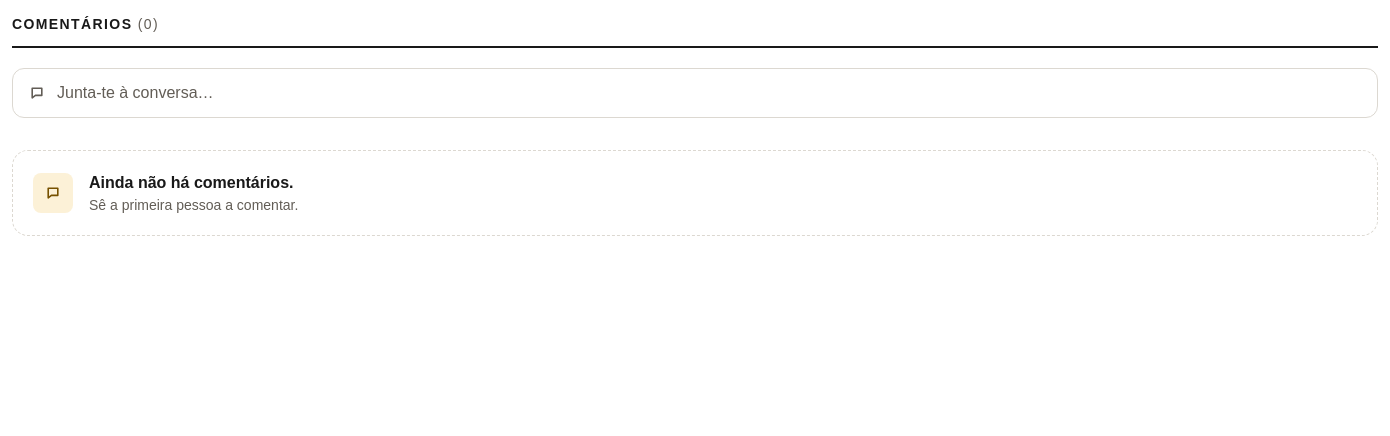
Test: comments › without an account, asks to log in in place of Publicar, and keeps what was written
The width and height of the screenshot is (1390, 436).
Click the button "Junta-te à conversa…": (135, 92) [12, 68, 1378, 118]
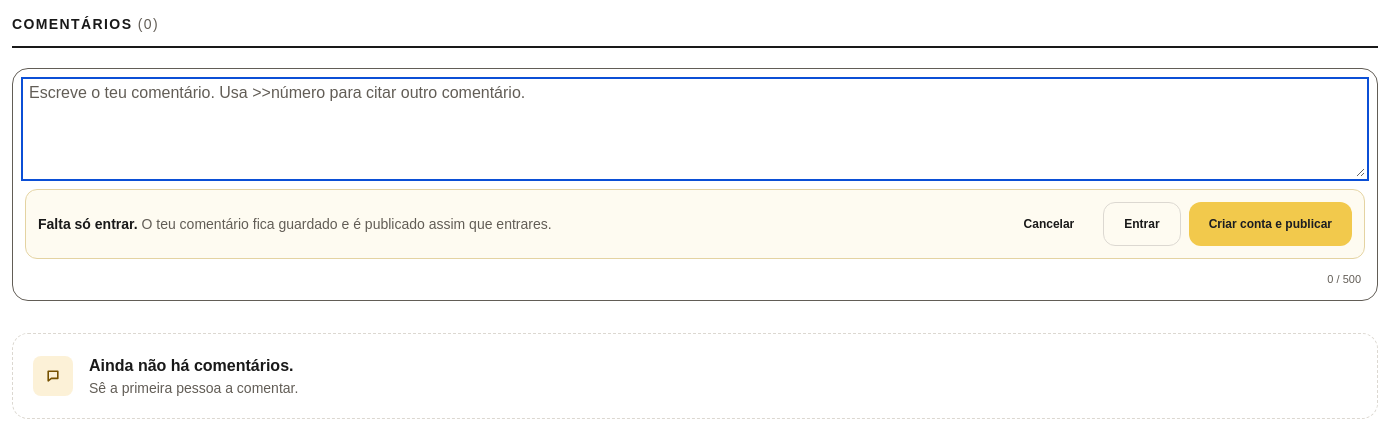
In the text box labelled "comentário": (695, 129) [25, 81, 1365, 177], type "Rascunho"
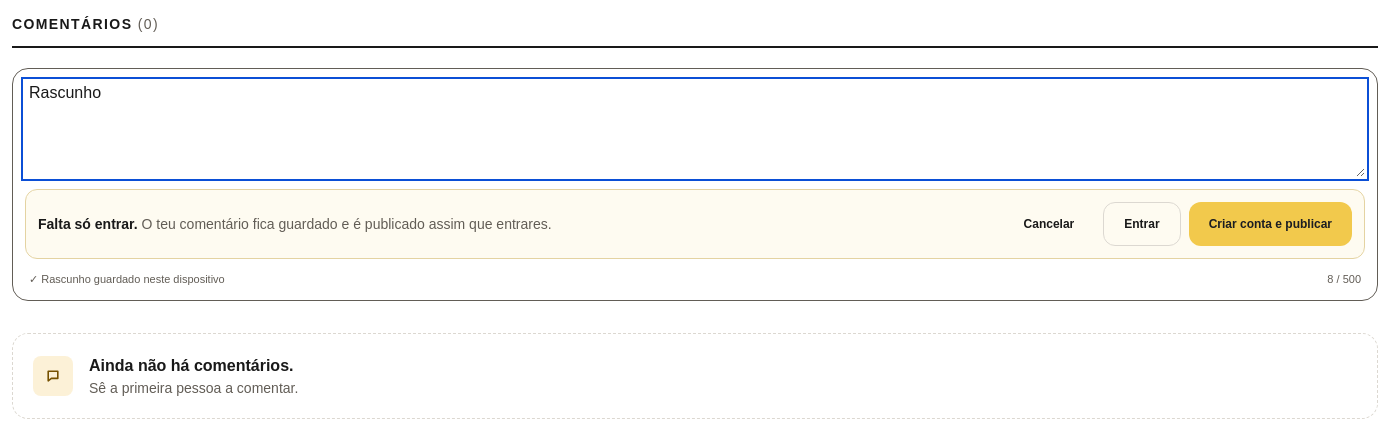
Result: the text "Falta só entrar." is shown at [38, 216, 138, 232]
Result: the button "Criar conta e publicar" is shown at [1189, 202, 1352, 246]
Result: the text "✓ Rascunho guardado neste dispositivo" is shown at [29, 271, 225, 288]
